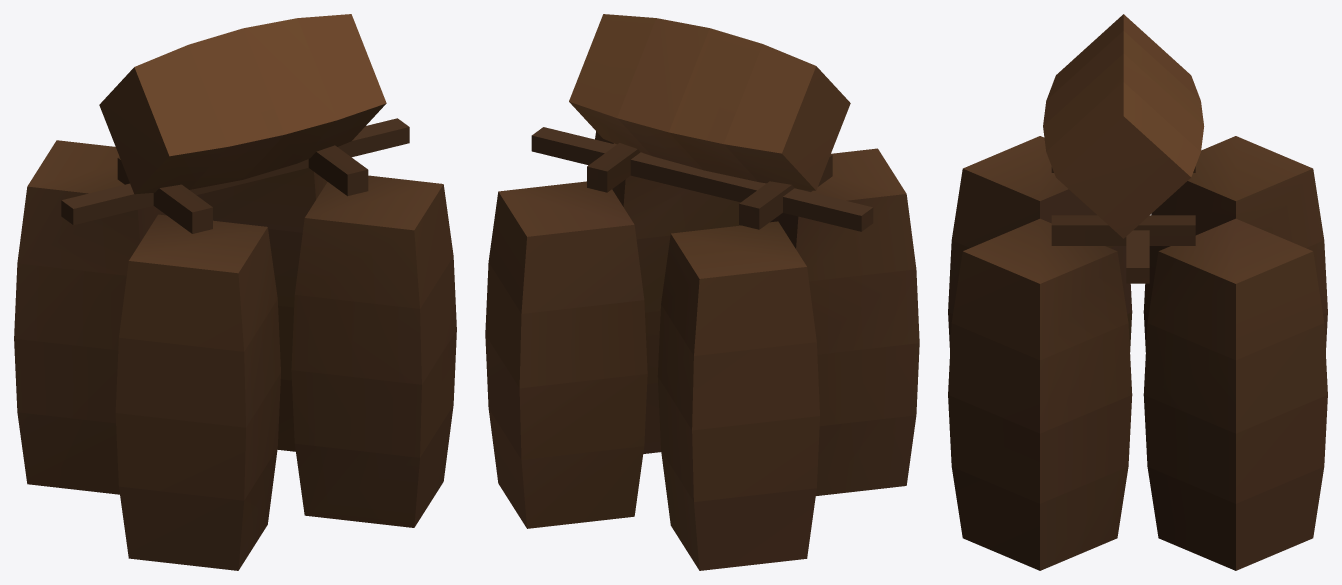
File: rb_barrels_lo-B33mJUFj.glb
3 renders of one model, left to right at view 1: azimuth 30°, elevation 25°; view 2: azimuth 150°, elevation 25°; view 3: azimuth 270°, elevation 25°, orthographic. The views are drawn at different scales.
Bounding box in the file's own units: 1.32 × 1.7 × 1.32.
